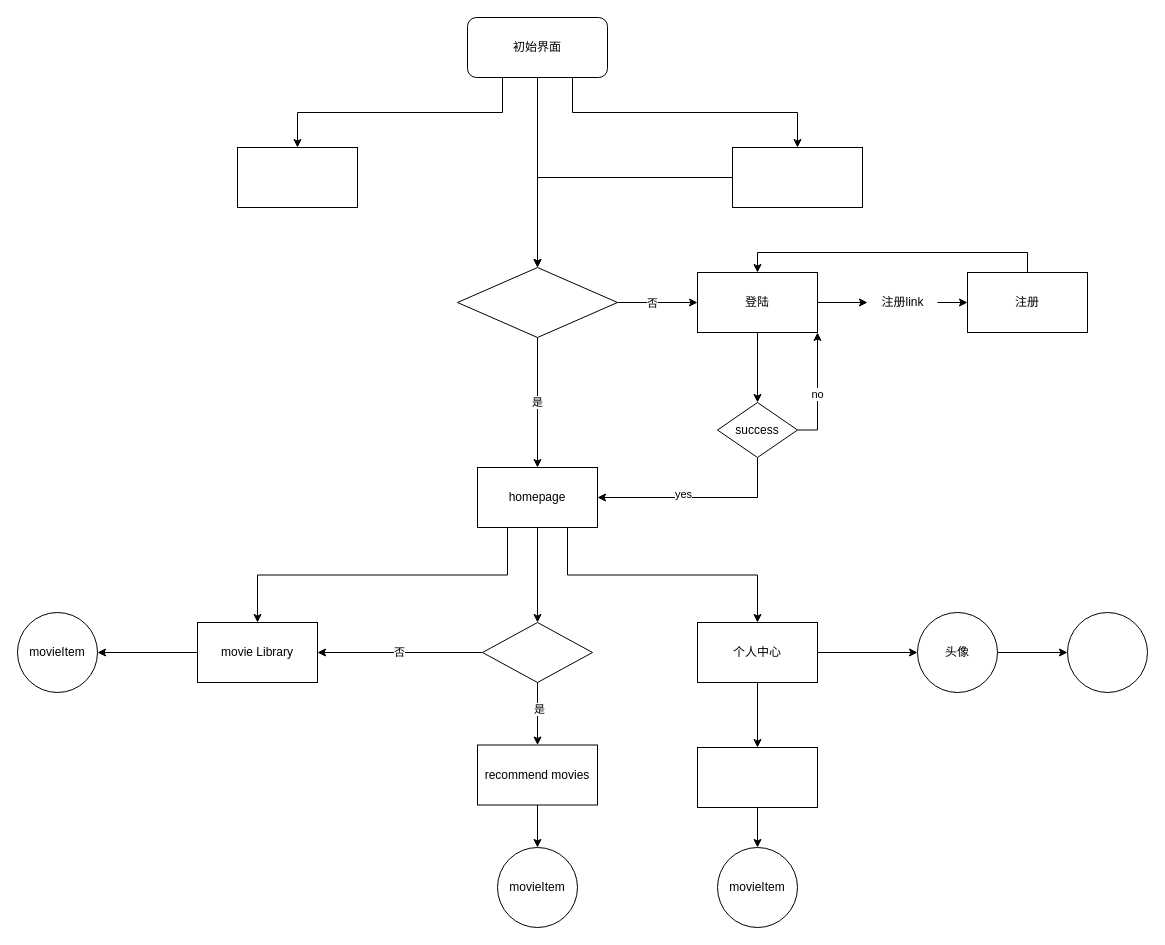
Some shapes in this 1165 by 945 pixel diagram are drawn without their labels. Here are the shapes that lost their labels. From the top down, the centre of each, then its label:
the point at 297,177: 更多功能...
the point at 797,177: 开始
the point at 537,302: token
the point at 537,652: 是否已有推荐数据
the point at 1107,652: 邮箱密码
the point at 757,777: 看过列表
